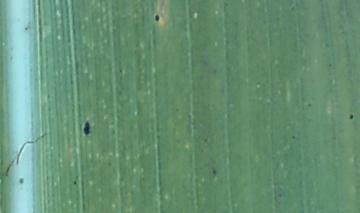tarspot: (80, 116, 93, 139), (155, 11, 164, 23), (72, 179, 79, 187), (349, 113, 354, 122)
